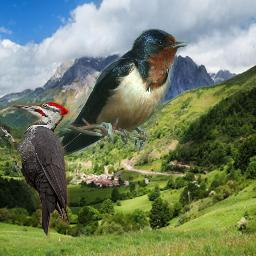Swallow: (25, 28, 188, 156)
Woodpecker: (0, 102, 70, 240)
